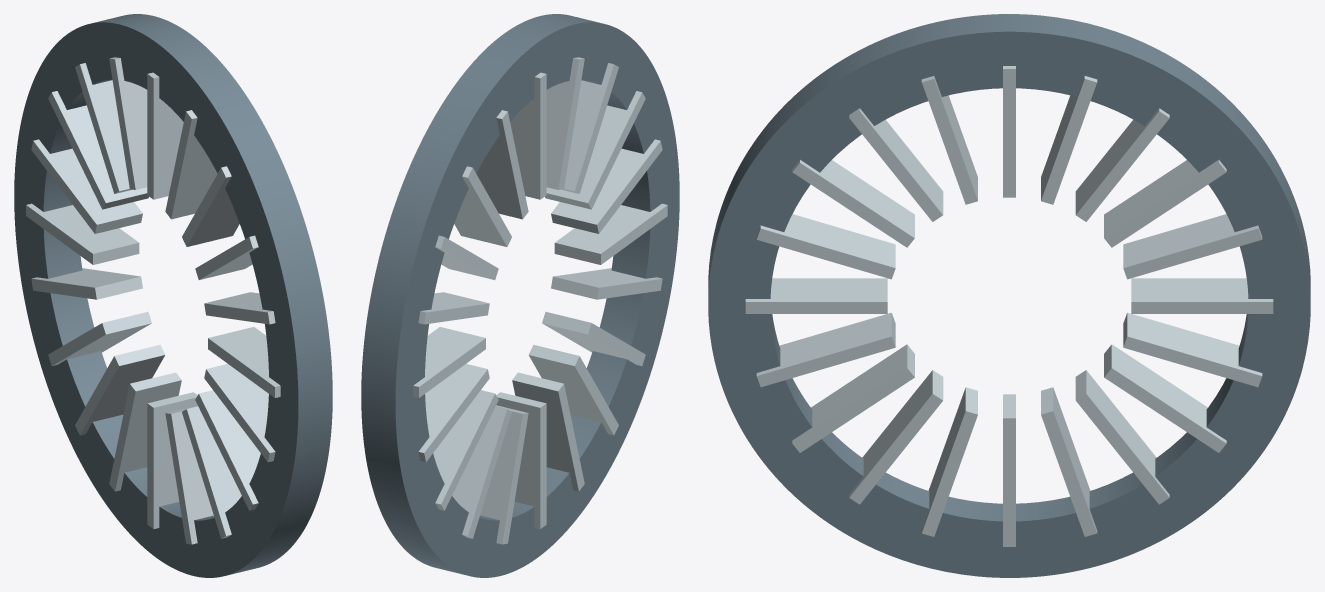
The model's file is radial-diffuser.glb.
The picture shows the model from 3 angles, left to right: view 1: azimuth 30°, elevation 25°; view 2: azimuth 150°, elevation 25°; view 3: azimuth 270°, elevation 25°; orthographic projection. The views are drawn at different scales.
Visible parts, largest first — view 1: radial-diffuser - shell, radial-diffuser - blade; view 2: radial-diffuser - shell, radial-diffuser - blade; view 3: radial-diffuser - shell, radial-diffuser - blade.
Part boxes in pixels (<box>): radial-diffuser - shell: <box>14,14,332,577</box>; radial-diffuser - blade: <box>26,57,280,544</box>; radial-diffuser - shell: <box>361,14,679,577</box>; radial-diffuser - blade: <box>413,57,667,544</box>; radial-diffuser - shell: <box>708,14,1310,577</box>; radial-diffuser - blade: <box>745,66,1273,546</box>.
Size of the model in its own units: 0.195 by 2.08 by 2.08.
